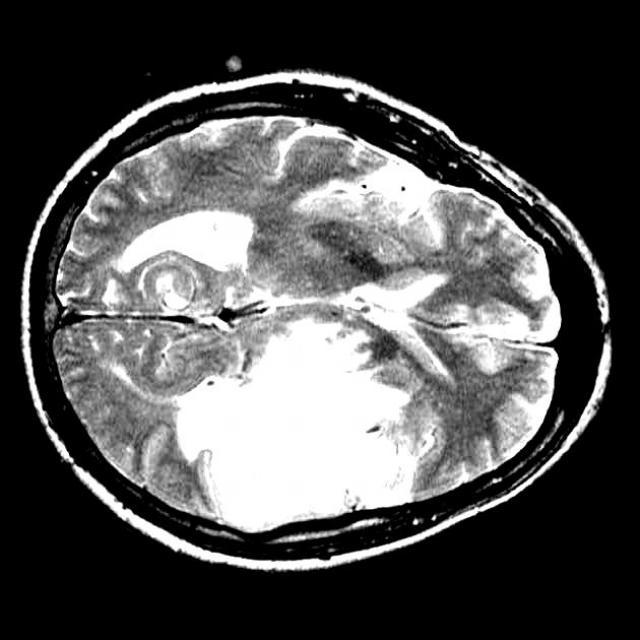tumor: (177, 317, 435, 533), (119, 209, 255, 320)
